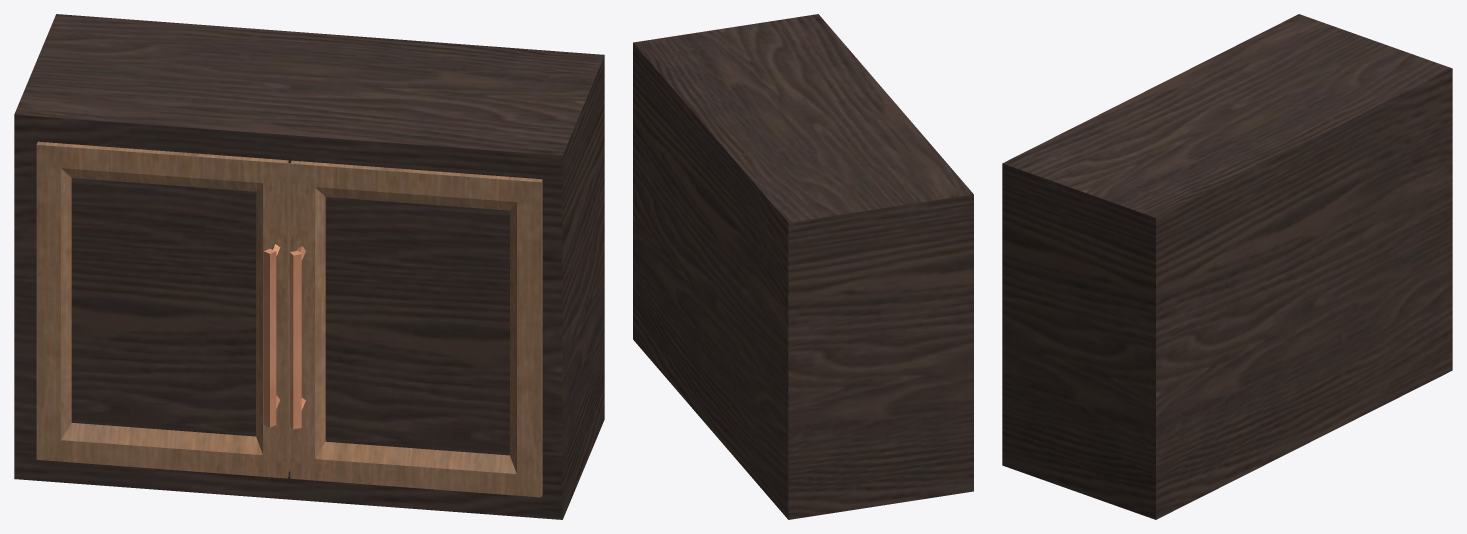
3 views of the same model, side by side, from view 1: azimuth 30°, elevation 25°; view 2: azimuth 150°, elevation 25°; view 3: azimuth 270°, elevation 25° (orthographic). The views are drawn at different scales.
Parts seen in each view (by area): view 1: Cube070_Wood_05001_0, Cube071_Wood_05001_0, Cube072_Wood_05001_0, Cube071_Wood_02001_0, Cube072_Wood_02001_0, Cube071_Metal_06001_0, Cube072_Metal_06001_0; view 2: Cube070_Wood_05001_0; view 3: Cube070_Wood_05001_0.
Boxes of the visible parts, x1,y1,x2,y2 form: Cube070_Wood_05001_0: (14, 14, 604, 519); Cube071_Wood_05001_0: (71, 178, 255, 436); Cube072_Wood_05001_0: (325, 197, 509, 455); Cube071_Wood_02001_0: (36, 141, 290, 478); Cube072_Wood_02001_0: (290, 160, 542, 497); Cube071_Metal_06001_0: (263, 244, 280, 427); Cube072_Metal_06001_0: (290, 246, 305, 429); Cube070_Wood_05001_0: (633, 14, 973, 519); Cube070_Wood_05001_0: (1002, 14, 1452, 519).
Bounding box in the file's own units: 0.8958 × 0.6186 × 0.8361.
3 materials, 3 textured.
